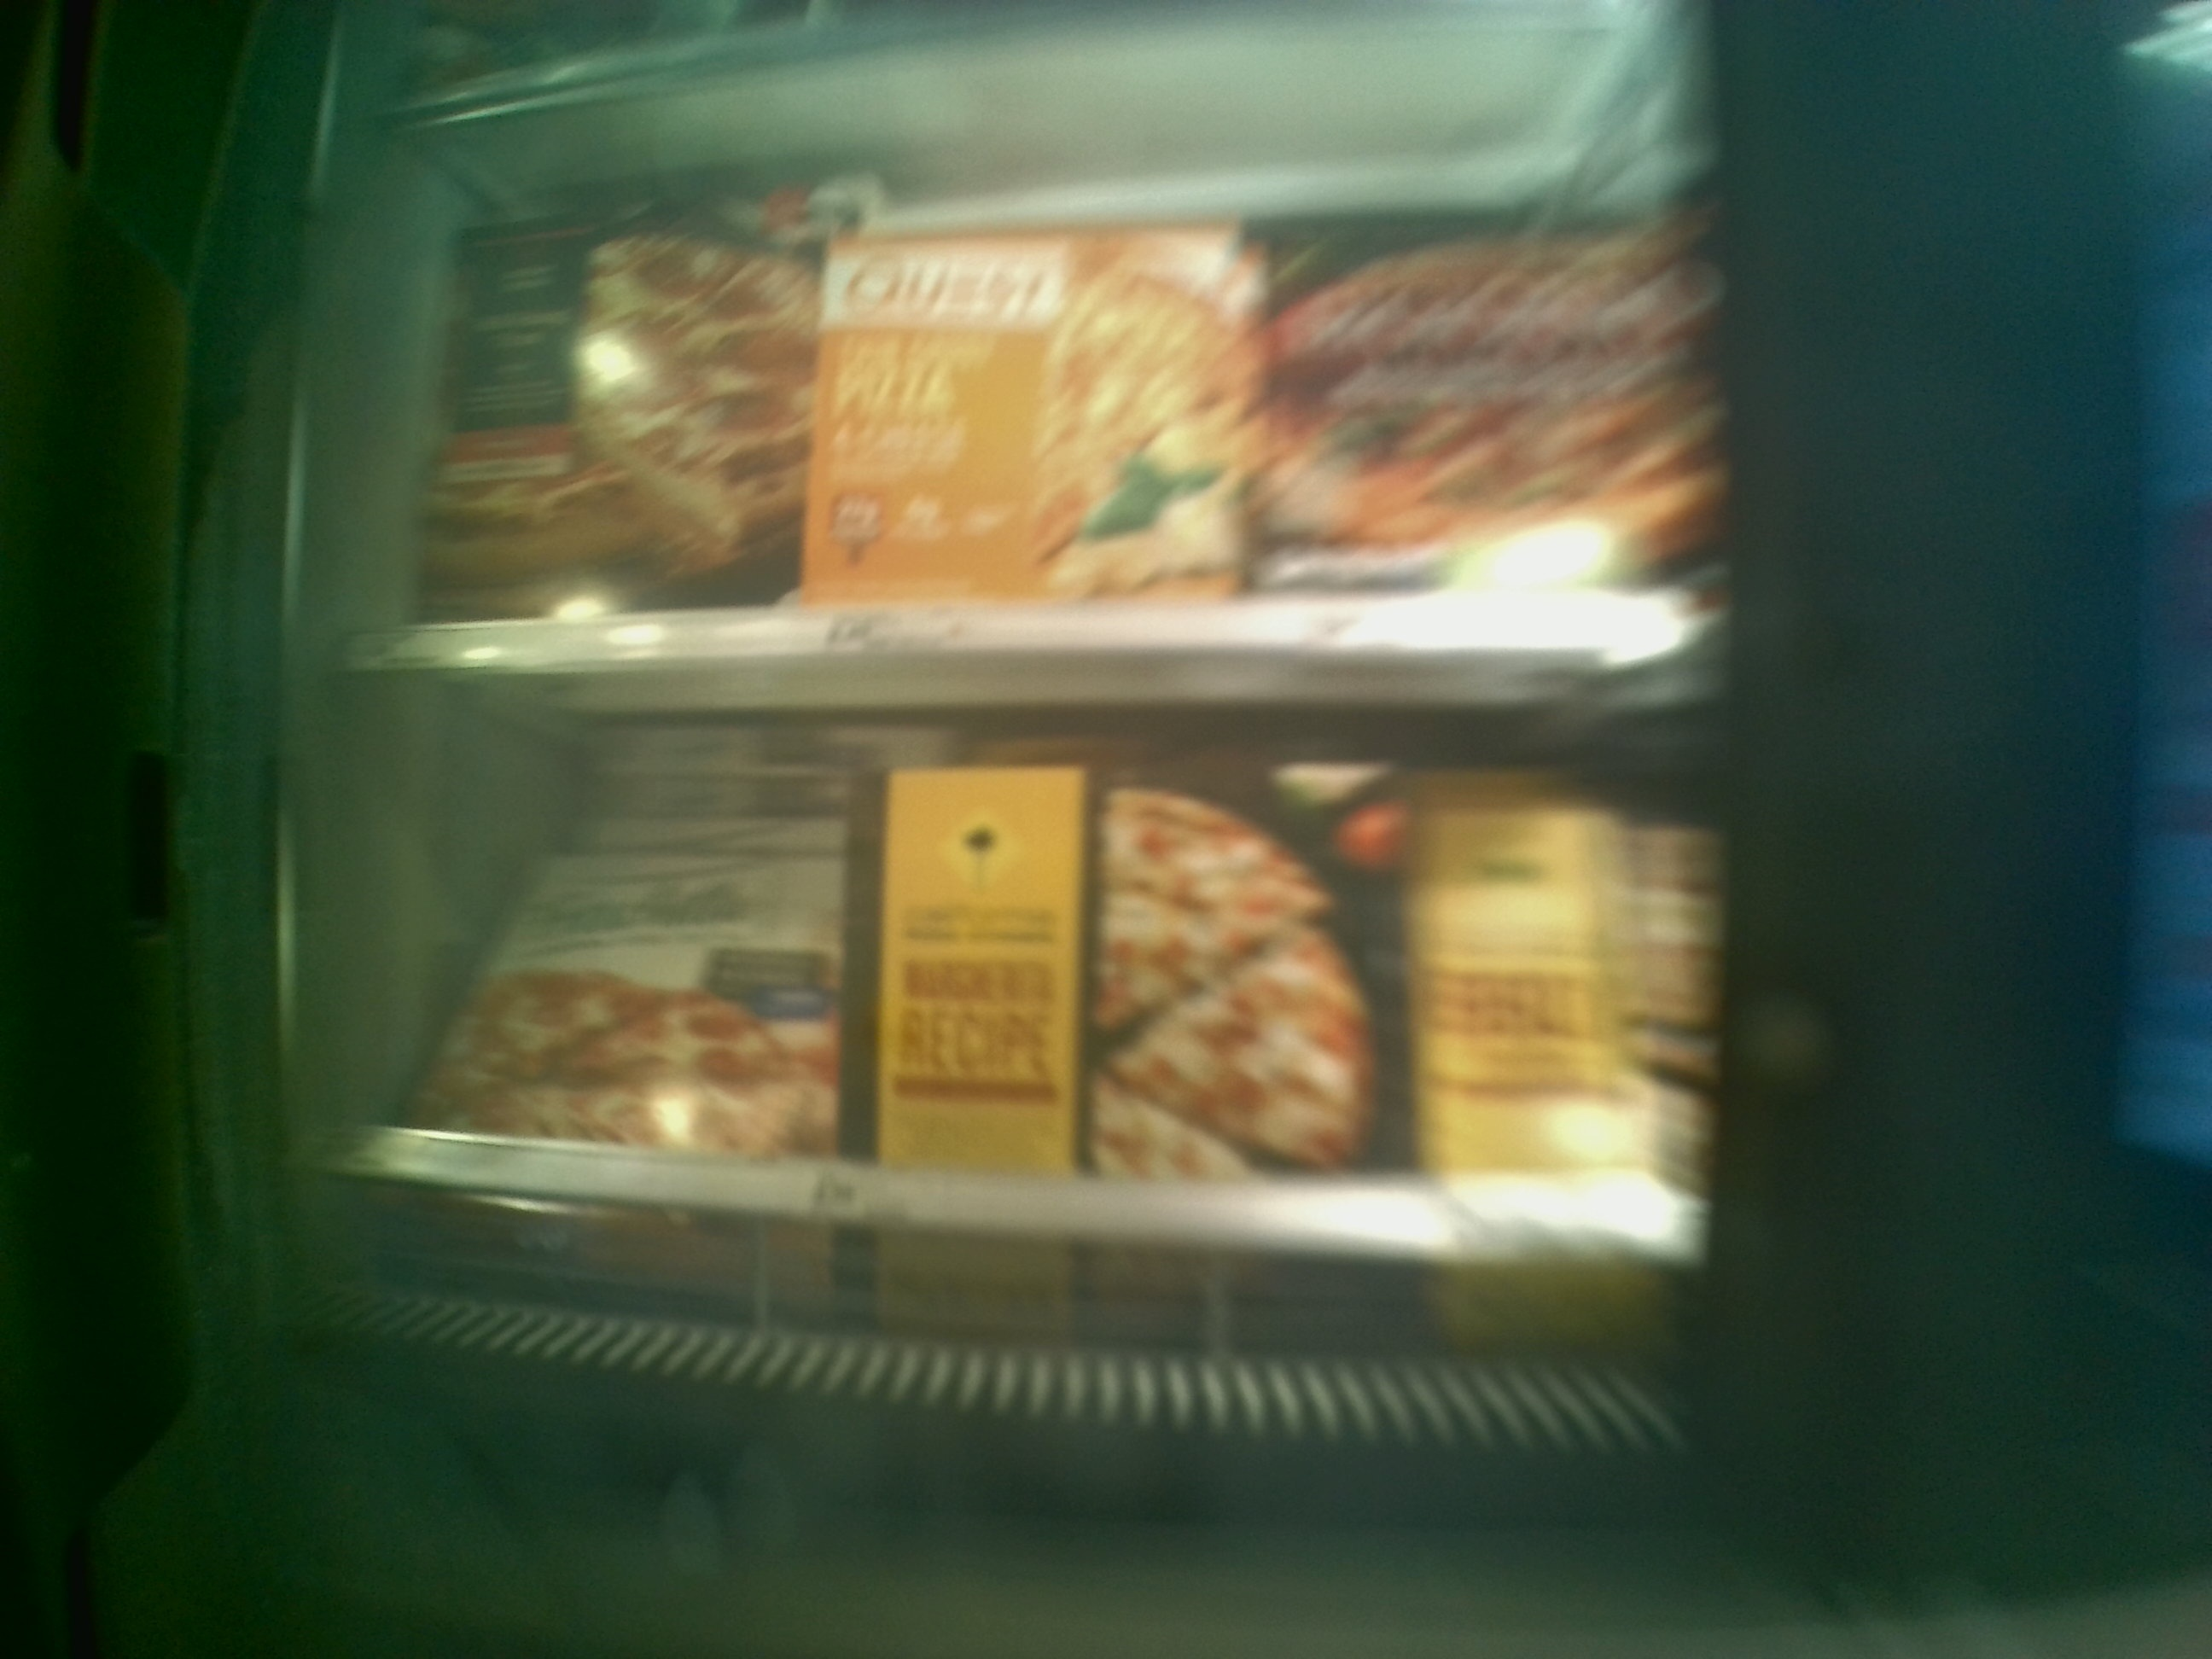pizza: (887, 763, 1404, 1140), (411, 174, 796, 584), (803, 234, 1249, 582), (420, 849, 813, 1148), (568, 774, 838, 817), (577, 723, 867, 763)
